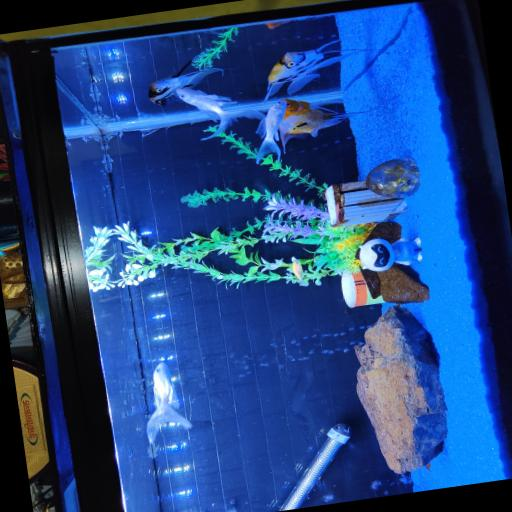Fish: (265, 40, 364, 101), (279, 99, 371, 152), (176, 88, 265, 139), (147, 363, 192, 445), (149, 61, 222, 106), (256, 100, 287, 164), (292, 257, 303, 280), (267, 21, 290, 29)
